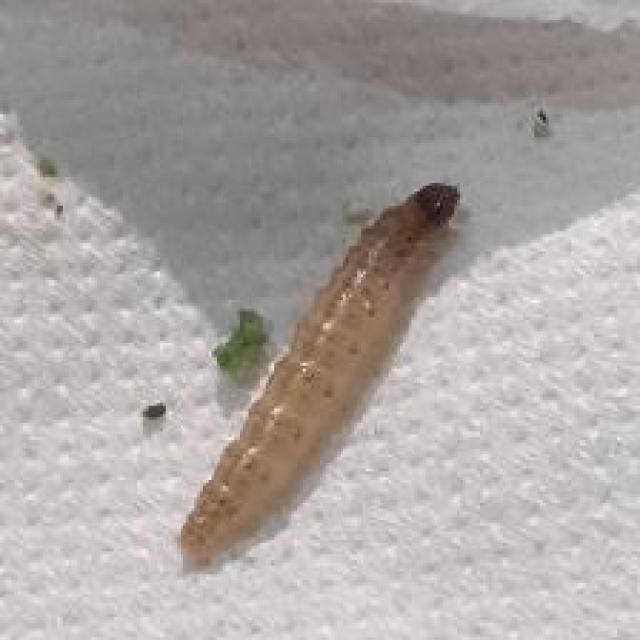white mucus: (173, 172, 487, 551)
